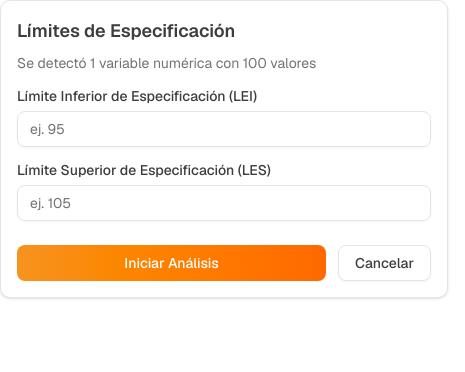
Test: SpecLimitsForm › required field validation › displays required errors for both fields when both are empty
Click the button "Iniciar Análisis" at x=172, y=263, box [17,245,326,281]
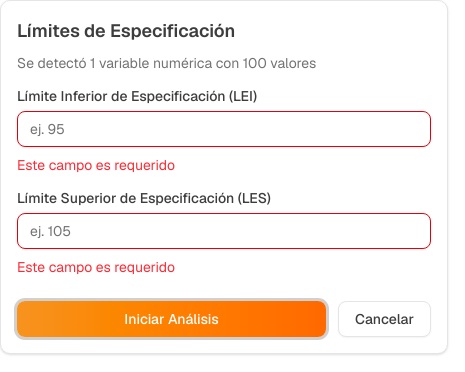
Expected: the text "Este campo es requerido" is shown 2 times, [17,156,175,174]; [17,258,175,276]
